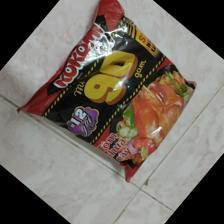Kokomi: (17, 1, 198, 186)
